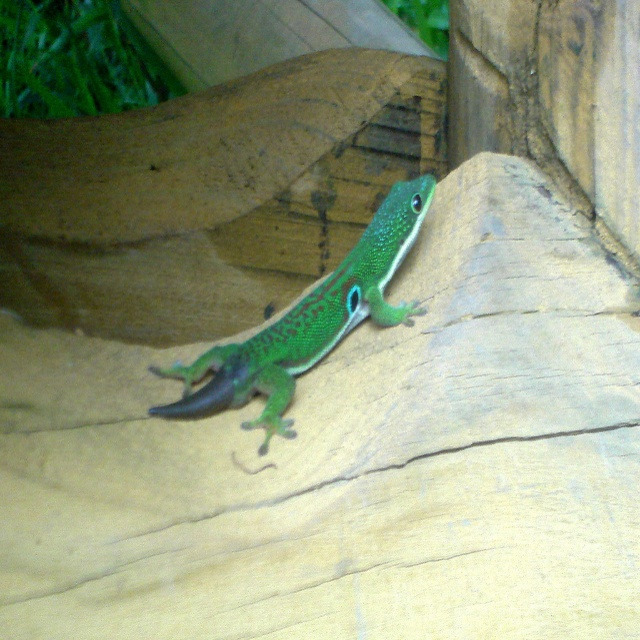Lizard: (146, 171, 448, 472)
